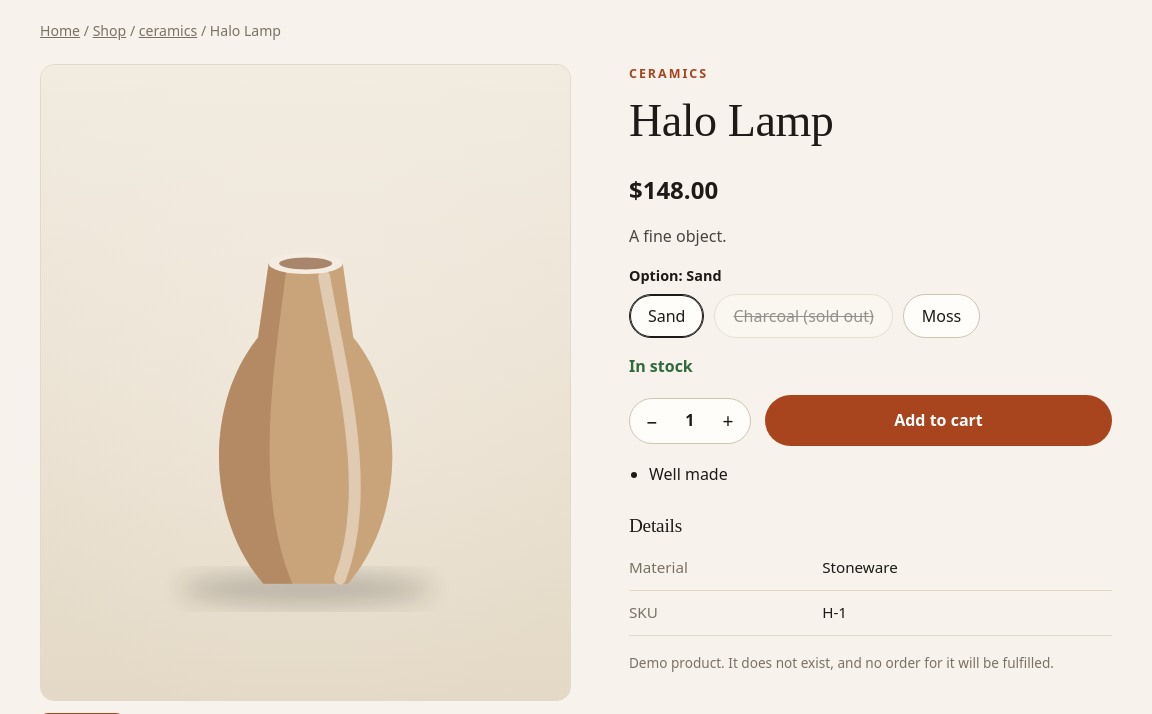
Test: ProductPage › adds the selected option to the cart, opens the drawer, and confirms
Expected: the heading "Halo Lamp" is shown, [629, 95, 833, 146]
Click the button "Add to cart". click: (938, 421)
box: [765, 395, 1112, 446]
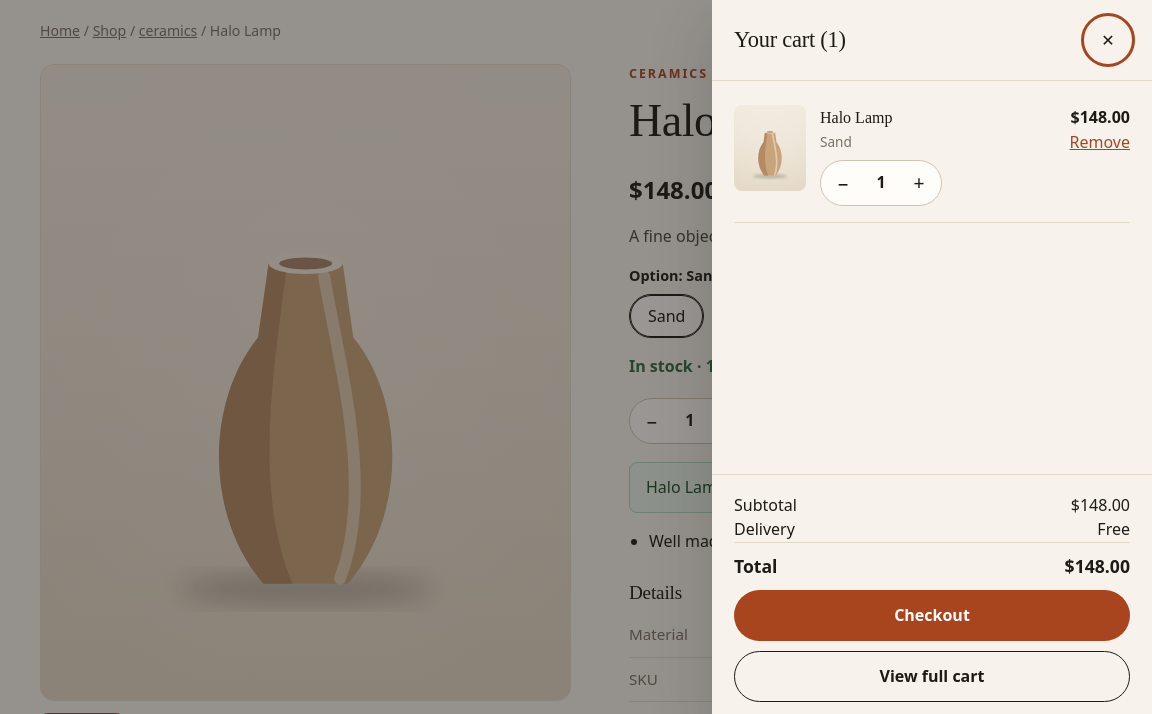
Now the link "Halo Lamp" is shown, box [820, 109, 892, 126]
Now the text "Halo Lamp (Sand) was added to your cart." is shown, box [629, 462, 1112, 513]
